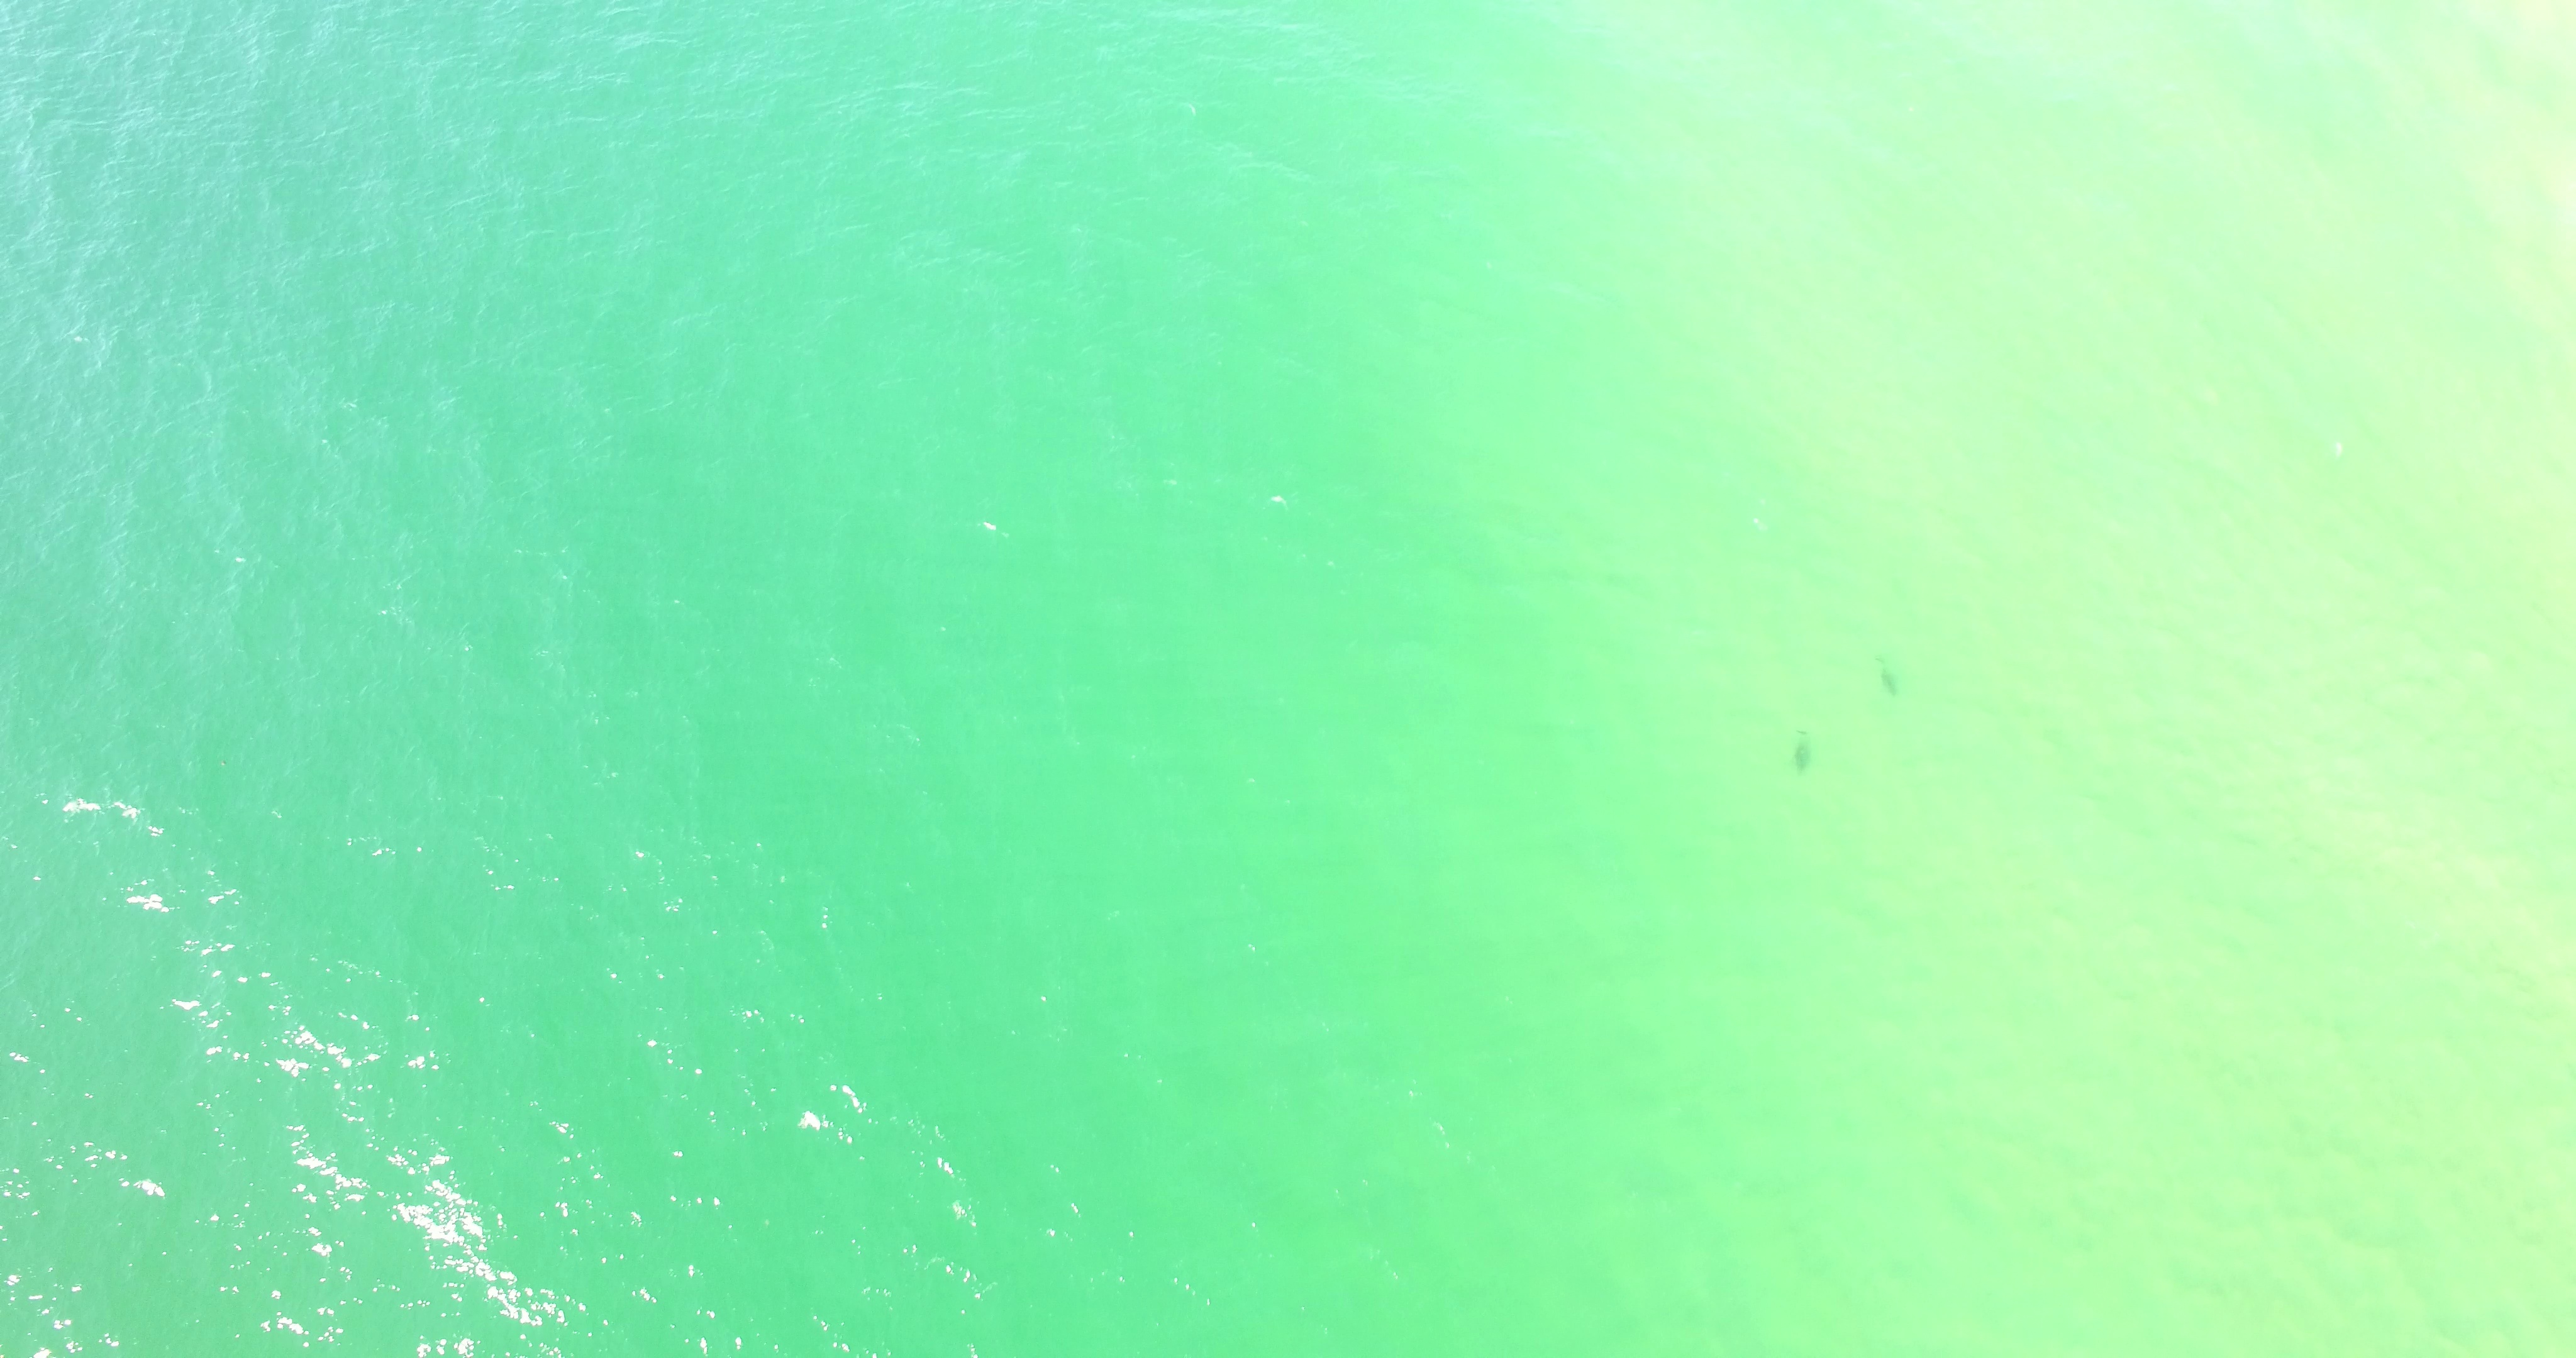dolphin: (1872, 654, 1900, 699), (1792, 726, 1813, 779)
